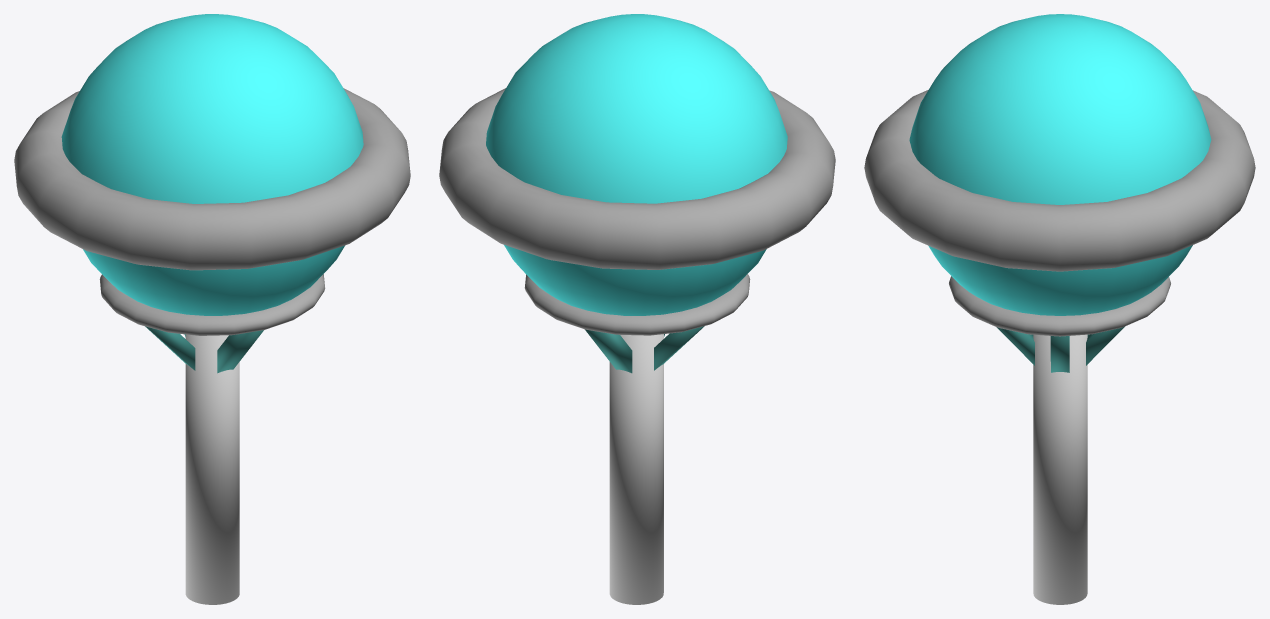
The model's file is wipeoutBlue.fbx.
3 renders of one model, left to right at view 1: azimuth 30°, elevation 25°; view 2: azimuth 150°, elevation 25°; view 3: azimuth 270°, elevation 25°, orthographic.
Visible parts, largest first — view 1: slide1:wipeoutball:Cube.020; view 2: slide1:wipeoutball:Cube.020; view 3: slide1:wipeoutball:Cube.020.
Boxes of the visible parts, box(x1,y1,x2,y2) form: slide1:wipeoutball:Cube.020: box(14, 14, 410, 604); slide1:wipeoutball:Cube.020: box(439, 14, 835, 604); slide1:wipeoutball:Cube.020: box(864, 14, 1255, 604).
Bounding box in the file's own units: 12.87 × 19.98 × 12.53.
